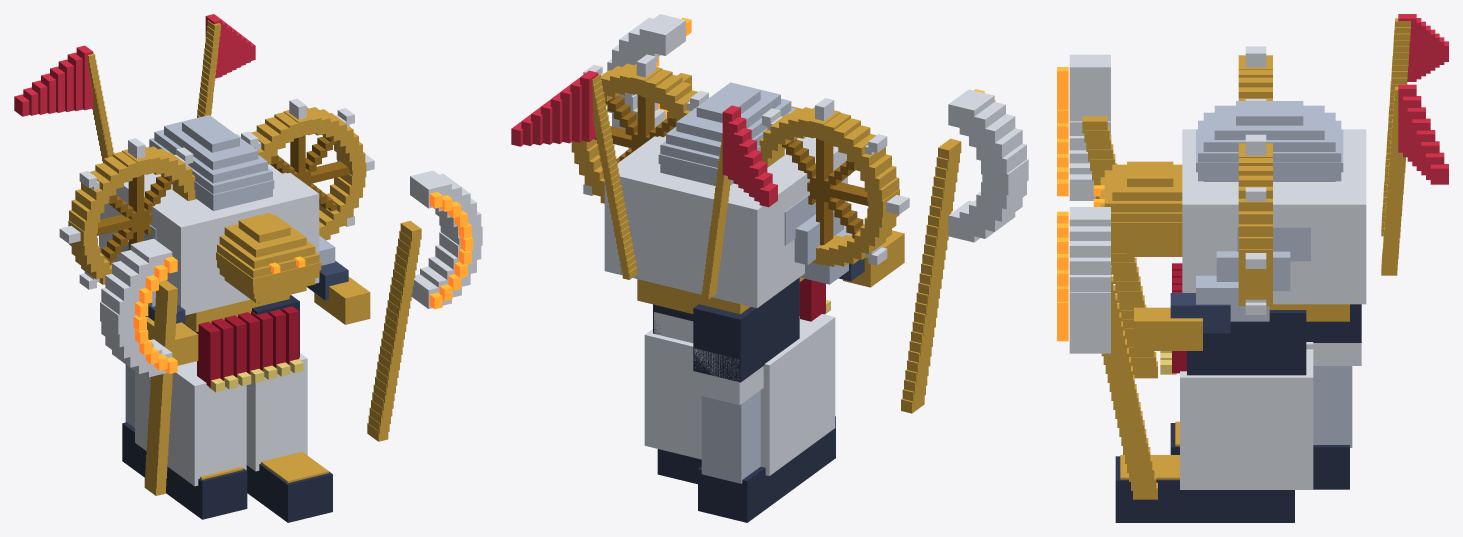
File: arena-chariot-juggernaut.glb
3 views of the same model, side by side, from view 1: azimuth 30°, elevation 25°; view 2: azimuth 150°, elevation 25°; view 3: azimuth 270°, elevation 25° (orthographic). The views are drawn at different scales.
Visible parts, largest first — view 1: Axes, Wheels, Greaves, Cloth, Armor, Boots, LionHeart, Head, Runes, Hands, Trim, BannerPoles (+3 smaller); view 2: Armor, Greaves, Wheels, Axes, Cloth, Head, Boots, BannerPoles, Knees, Arms, Spikes, Belt (+1 smaller); view 3: Axes, Greaves, Armor, Cloth, Head, Boots, LionHeart, Wheels, Arms, BannerPoles, Runes, Hands (+4 smaller).
Boxes of the visible parts, x1=… form: Axes: x1=100, y1=170, x2=482, y2=495; Wheels: x1=68, y1=107, x2=366, y2=284; Greaves: x1=125, y1=353, x2=307, y2=486; Cloth: x1=14, y1=14, x2=299, y2=387; Armor: x1=99, y1=133, x2=319, y2=315; Boots: x1=122, y1=422, x2=332, y2=522; LionHeart: x1=216, y1=212, x2=321, y2=303; Head: x1=147, y1=115, x2=274, y2=210; Runes: x1=133, y1=192, x2=473, y2=373; Hands: x1=146, y1=277, x2=370, y2=365; Trim: x1=200, y1=359, x2=328, y2=482; BannerPoles: x1=87, y1=20, x2=220, y2=162; Armor: x1=604, y1=136, x2=847, y2=308; Greaves: x1=644, y1=314, x2=835, y2=483; Wheels: x1=571, y1=63, x2=899, y2=266; Axes: x1=607, y1=14, x2=1028, y2=413; Cloth: x1=511, y1=70, x2=825, y2=382; Head: x1=658, y1=82, x2=796, y2=185; Boots: x1=657, y1=416, x2=835, y2=522; BannerPoles: x1=592, y1=74, x2=730, y2=299; Knees: x1=654, y1=312, x2=763, y2=405; Arms: x1=784, y1=193, x2=864, y2=284; Spikes: x1=583, y1=54, x2=909, y2=265; Belt: x1=637, y1=277, x2=804, y2=314; Axes: x1=1069, y1=54, x2=1157, y2=499; Greaves: x1=1180, y1=342, x2=1352, y2=489; Armor: x1=1182, y1=129, x2=1366, y2=304; Cloth: x1=1172, y1=14, x2=1448, y2=375; Head: x1=1196, y1=101, x2=1343, y2=181; Boots: x1=1115, y1=423, x2=1349, y2=522; LionHeart: x1=1099, y1=161, x2=1182, y2=254; Wheels: x1=1238, y1=55, x2=1272, y2=305; Arms: x1=1170, y1=227, x2=1310, y2=333; BannerPoles: x1=1381, y1=18, x2=1410, y2=275; Runes: x1=1057, y1=67, x2=1068, y2=341; Hands: x1=1134, y1=251, x2=1202, y2=350.
Size of the model in its own units: 2.1 by 2.18 by 1.75.
